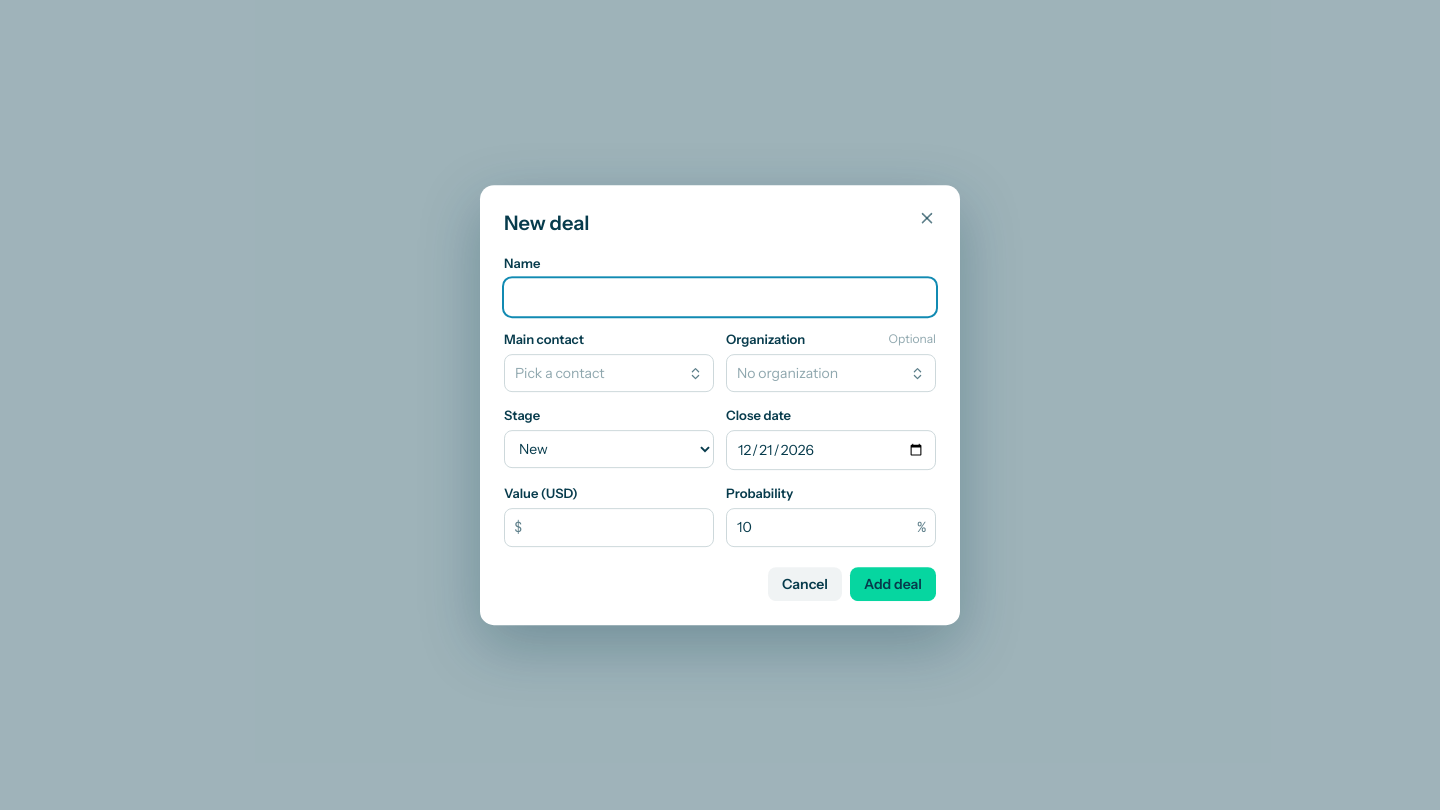
Scenario: DealForm › shows its own messages before sending anything
This screenshot has width=1440, height=810.
Expected: the dialog is shown, [480, 185, 960, 625]
Click the button "Add deal" at (893, 584), box [850, 567, 936, 601]
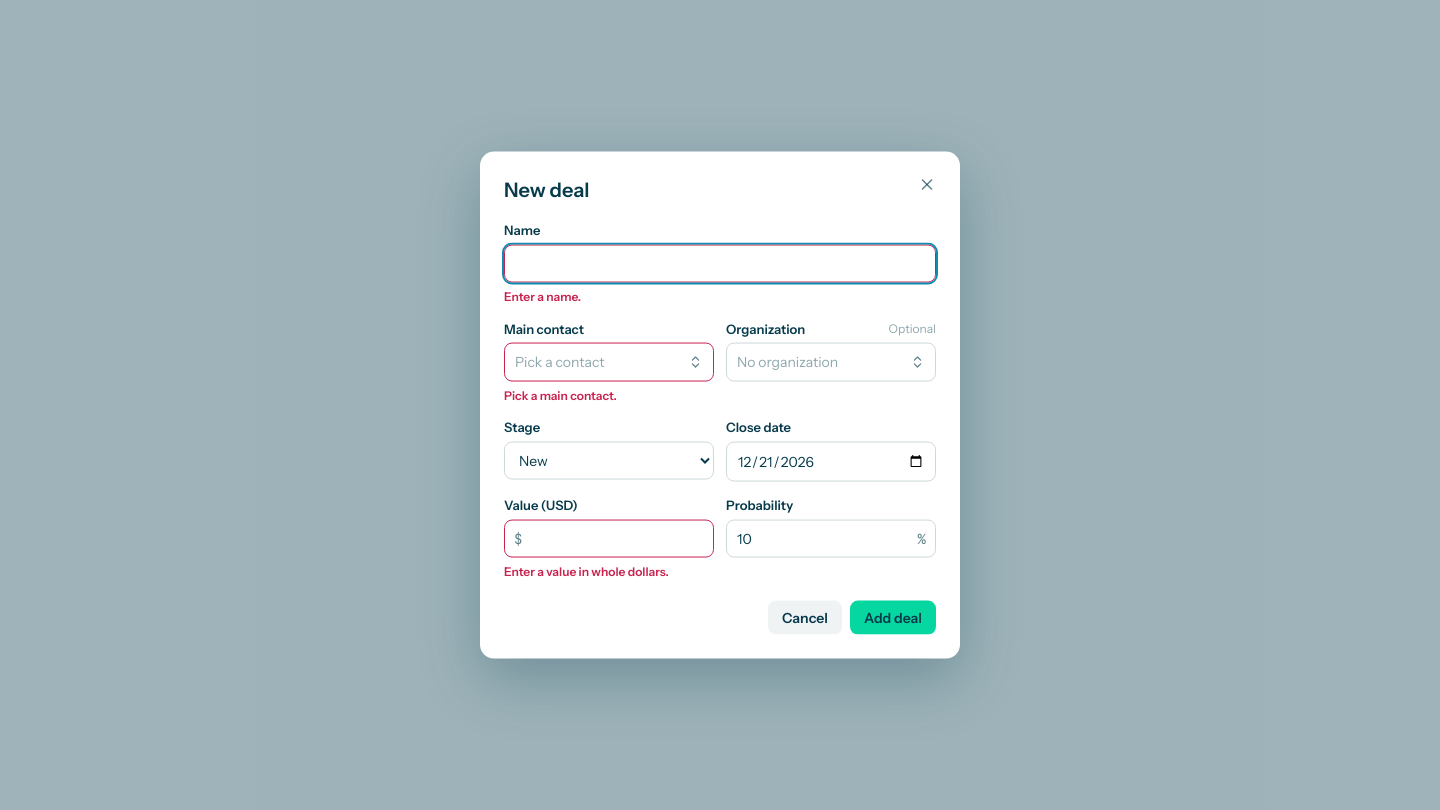
Expected: the text "Enter a name." is shown, [504, 289, 581, 304]
Expected: the text "Pick a main contact." is shown, [504, 387, 617, 402]
Expected: the text "Enter a value in whole dollars." is shown, [504, 564, 669, 579]
